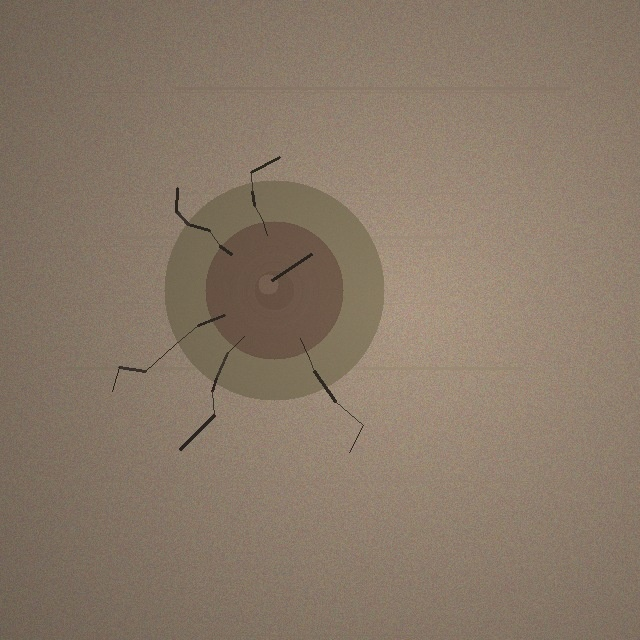crack: (164, 180, 384, 400)
